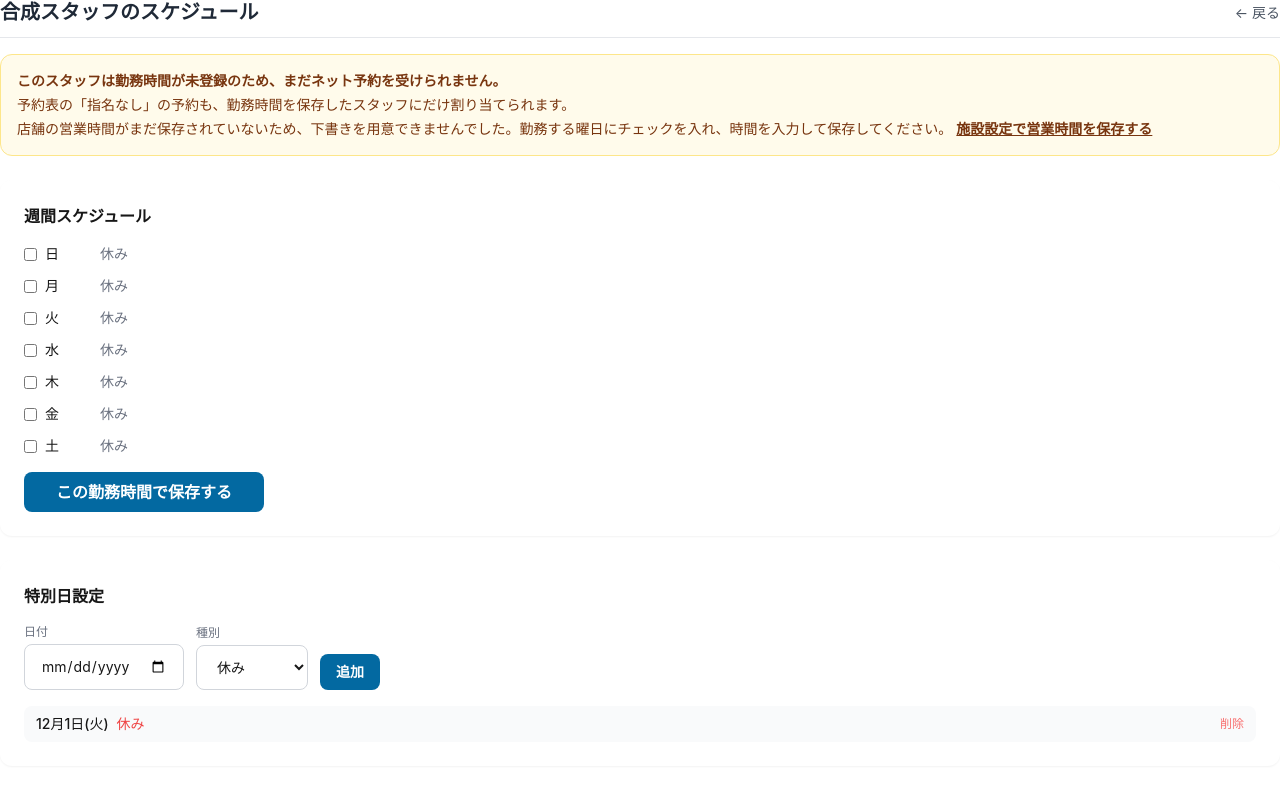
schedule DELETE network failure retains override and asks to recheck result
The image size is (1280, 800).
What coordinates should you click on to do the following:
click the button "削除"
I would click on:
 (1232, 724)
Its box is [1220,716,1244,732].
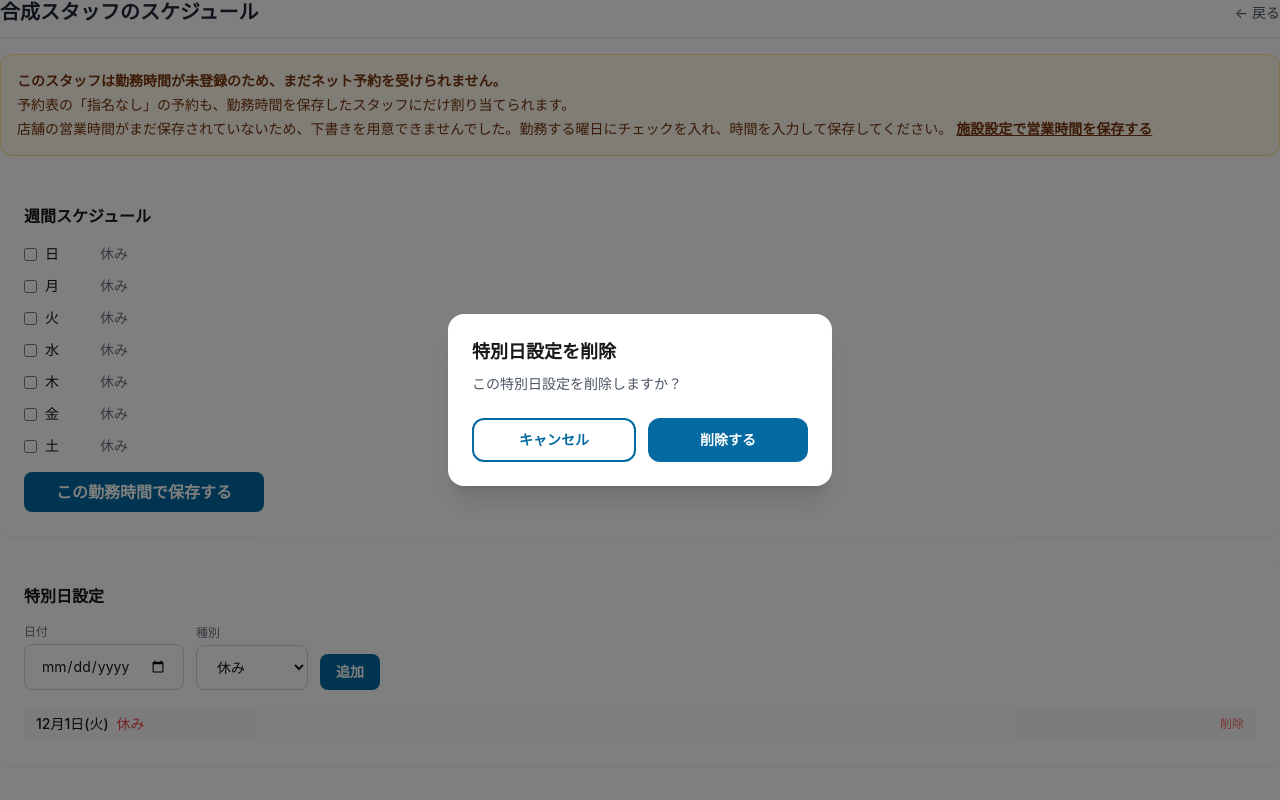
What coordinates should you click on to do the following:
click the button "削除する"
I would click on:
 (728, 440)
Its box is [648,418,808,462].
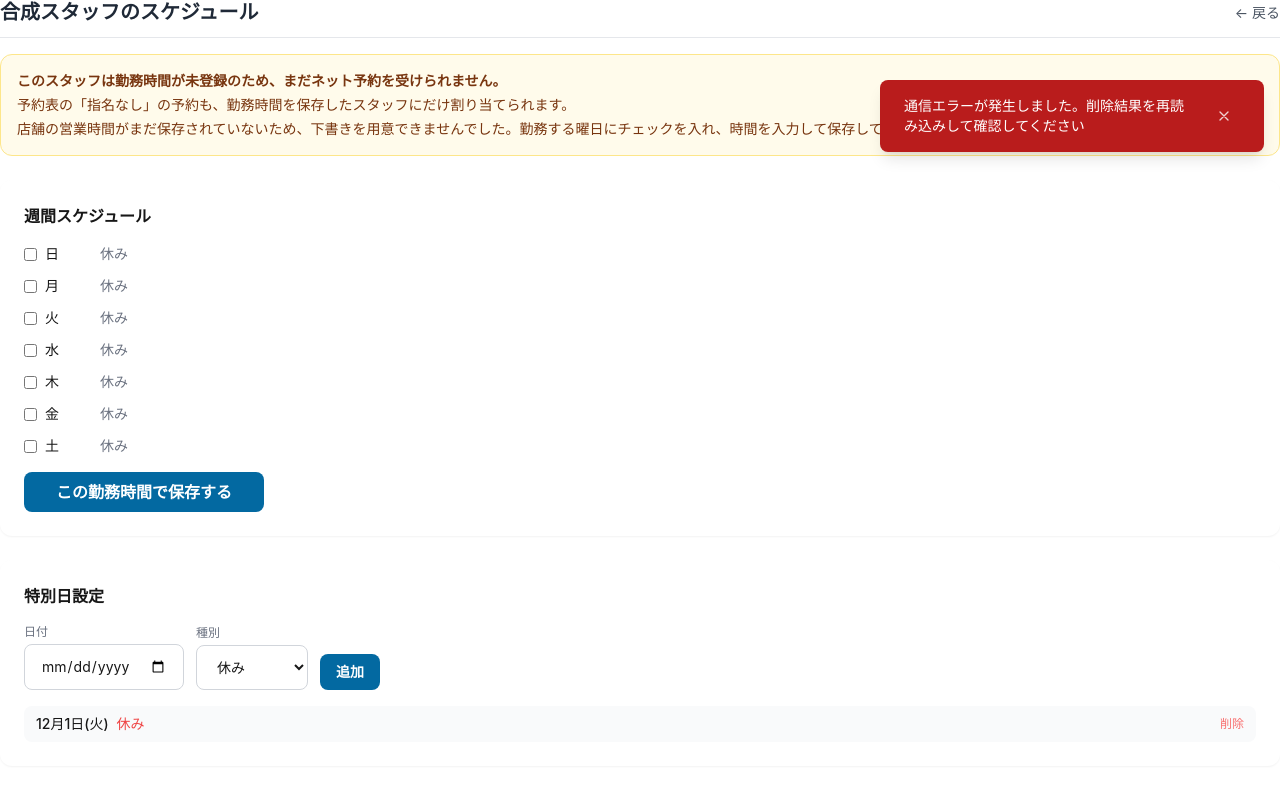
Check: the text "通信エラーが発生しました。削除結果を再読み込みして確認してください" is shown, box [904,96,1196,136]
